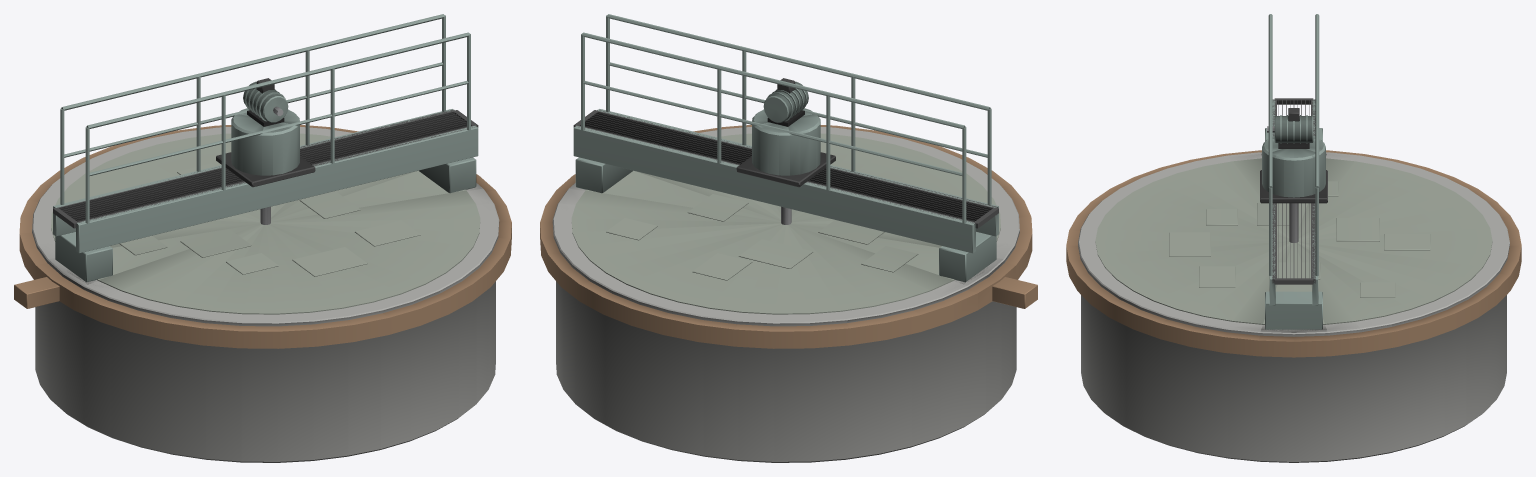
The model's file is mill_thickener.glb.
3 views of the same model, side by side, from view 1: azimuth 30°, elevation 25°; view 2: azimuth 150°, elevation 25°; view 3: azimuth 270°, elevation 25° (orthographic). The views are drawn at different scales.
Visible parts, largest first — view 1: static; view 2: static; view 3: static.
Part boxes in pixels (box(x1,y1,x2,y2)): static: box(14, 14, 511, 462); static: box(540, 14, 1037, 462); static: box(1066, 14, 1521, 462).
Bounding box in the file's own units: 5.05 × 3.12 × 4.7.
